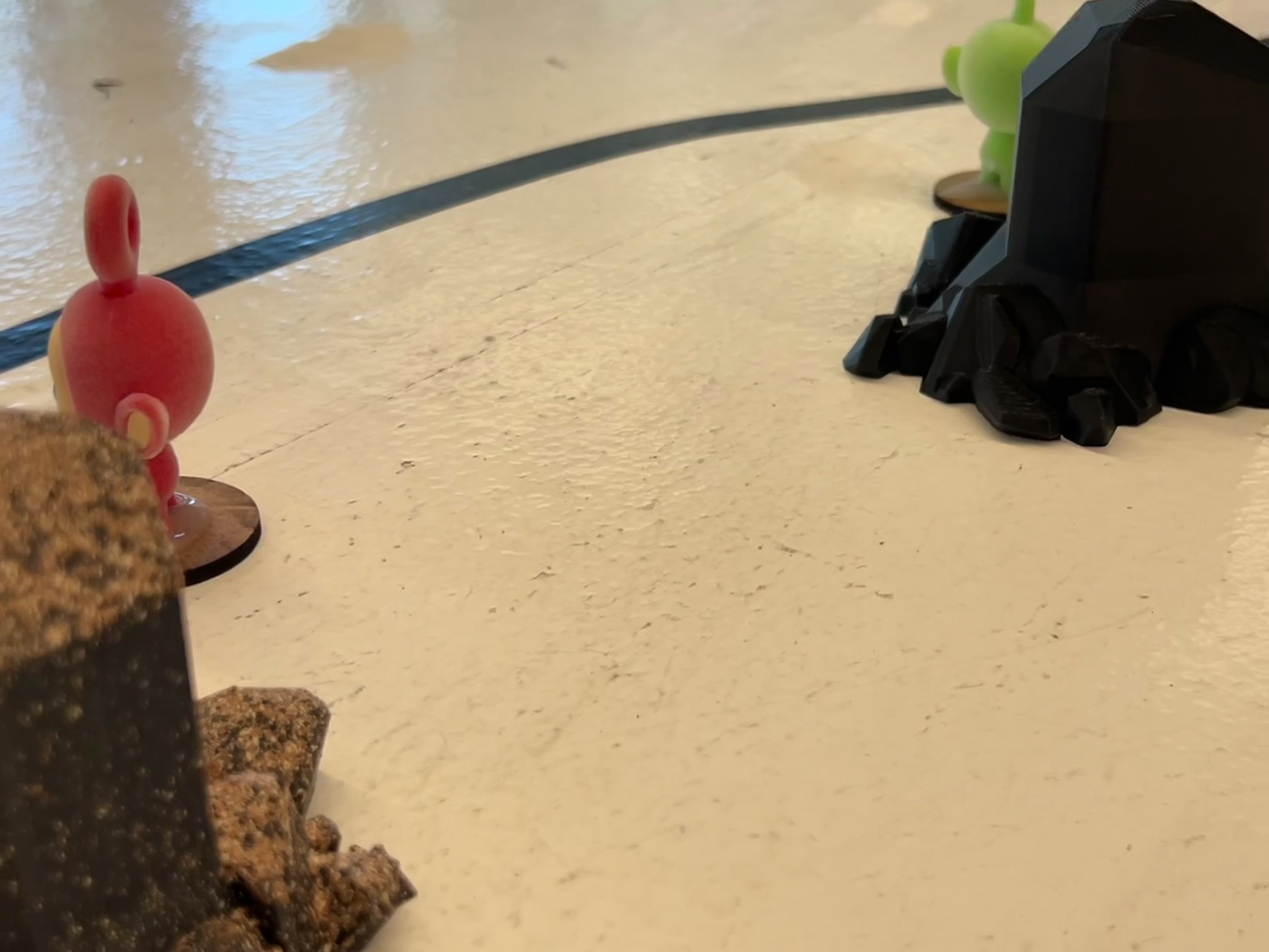teletubby: (47, 175, 214, 518), (942, 0, 1054, 199)
